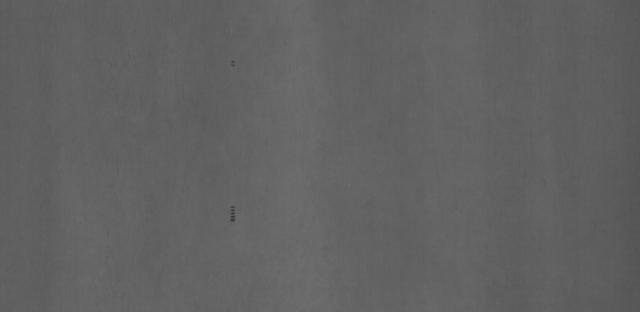oil_spot: (225, 197, 237, 228)
